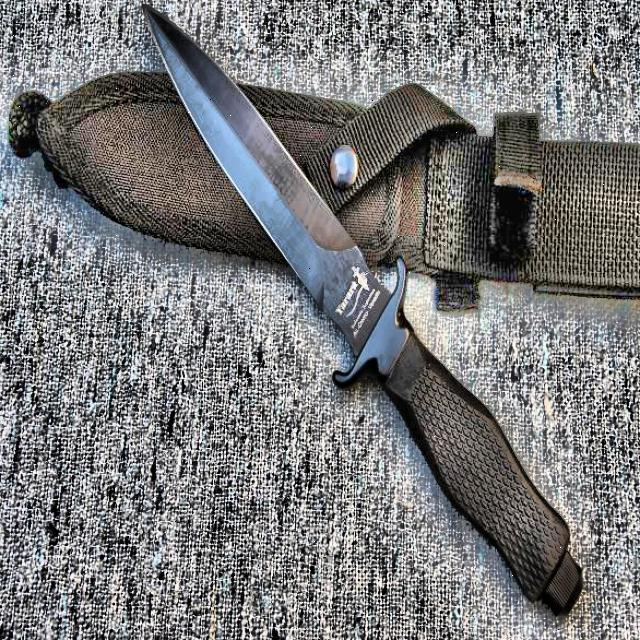knife: (141, 7, 587, 615)
